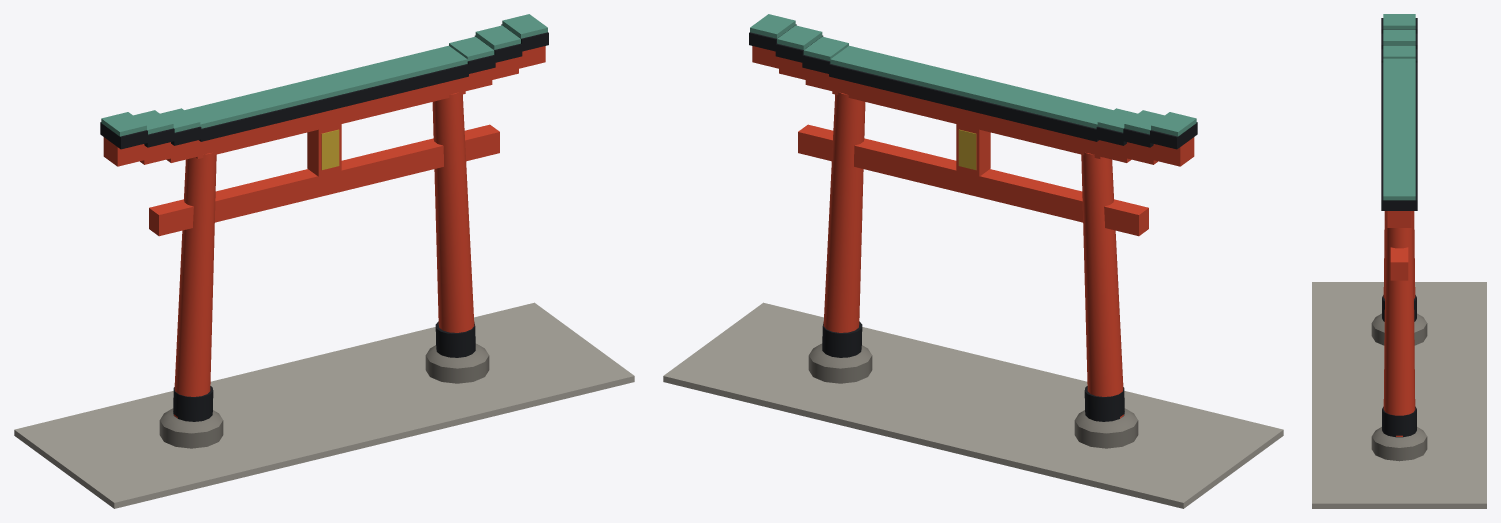
Rendered from torii.glb.
3 renders of one model, left to right at view 1: azimuth 30°, elevation 25°; view 2: azimuth 150°, elevation 25°; view 3: azimuth 270°, elevation 25°, orthographic. The views are drawn at different scales.
Visible parts, largest first — view 1: torii; view 2: torii; view 3: torii.
Part boxes in pixels (left/top/right/bottom): torii: left=14, top=14, right=634, bottom=508; torii: left=663, top=14, right=1283, bottom=508; torii: left=1312, top=14, right=1486, bottom=508.
Bounding box in the file's own units: 18 × 11.1 × 6.
